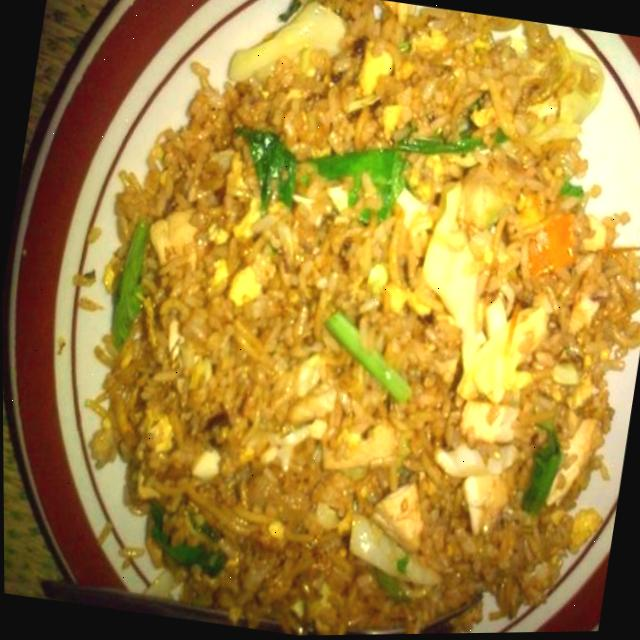米饭主食: (11, 0, 640, 640)
